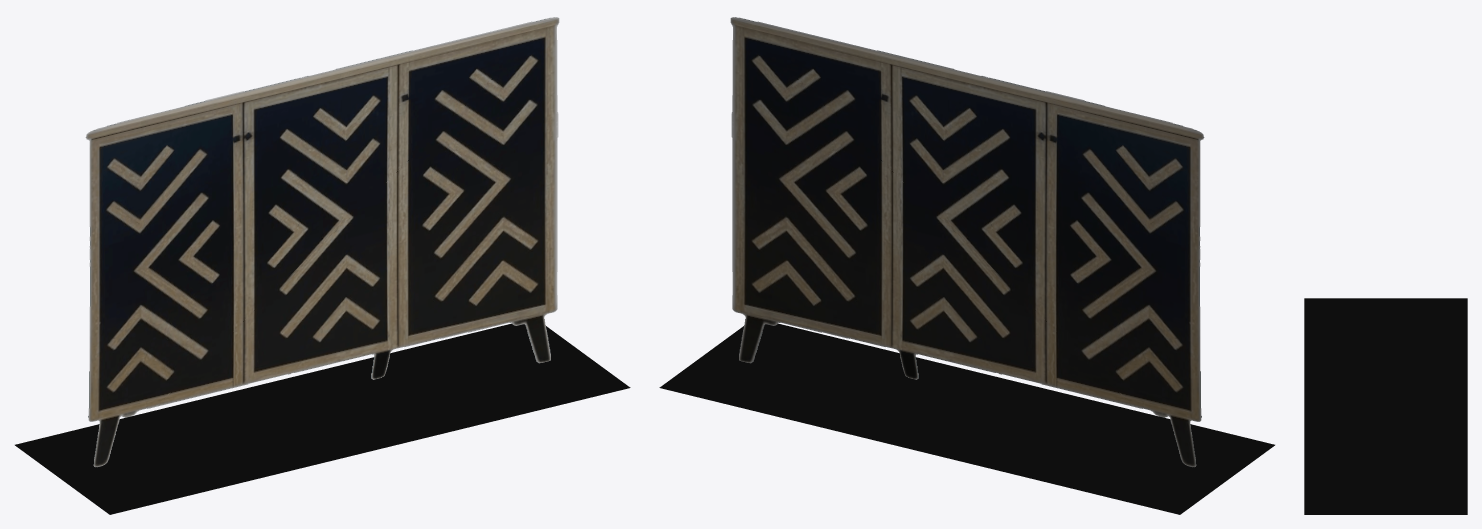
File: arm-c1d6234b17.glb
3 renders of one model, left to right at view 1: azimuth 30°, elevation 25°; view 2: azimuth 150°, elevation 25°; view 3: azimuth 270°, elevation 25°, orthographic. The views are drawn at different scales.
Size of the model in its own units: 1.32 by 0.8367 by 0.42.
2 materials, 2 textured.
